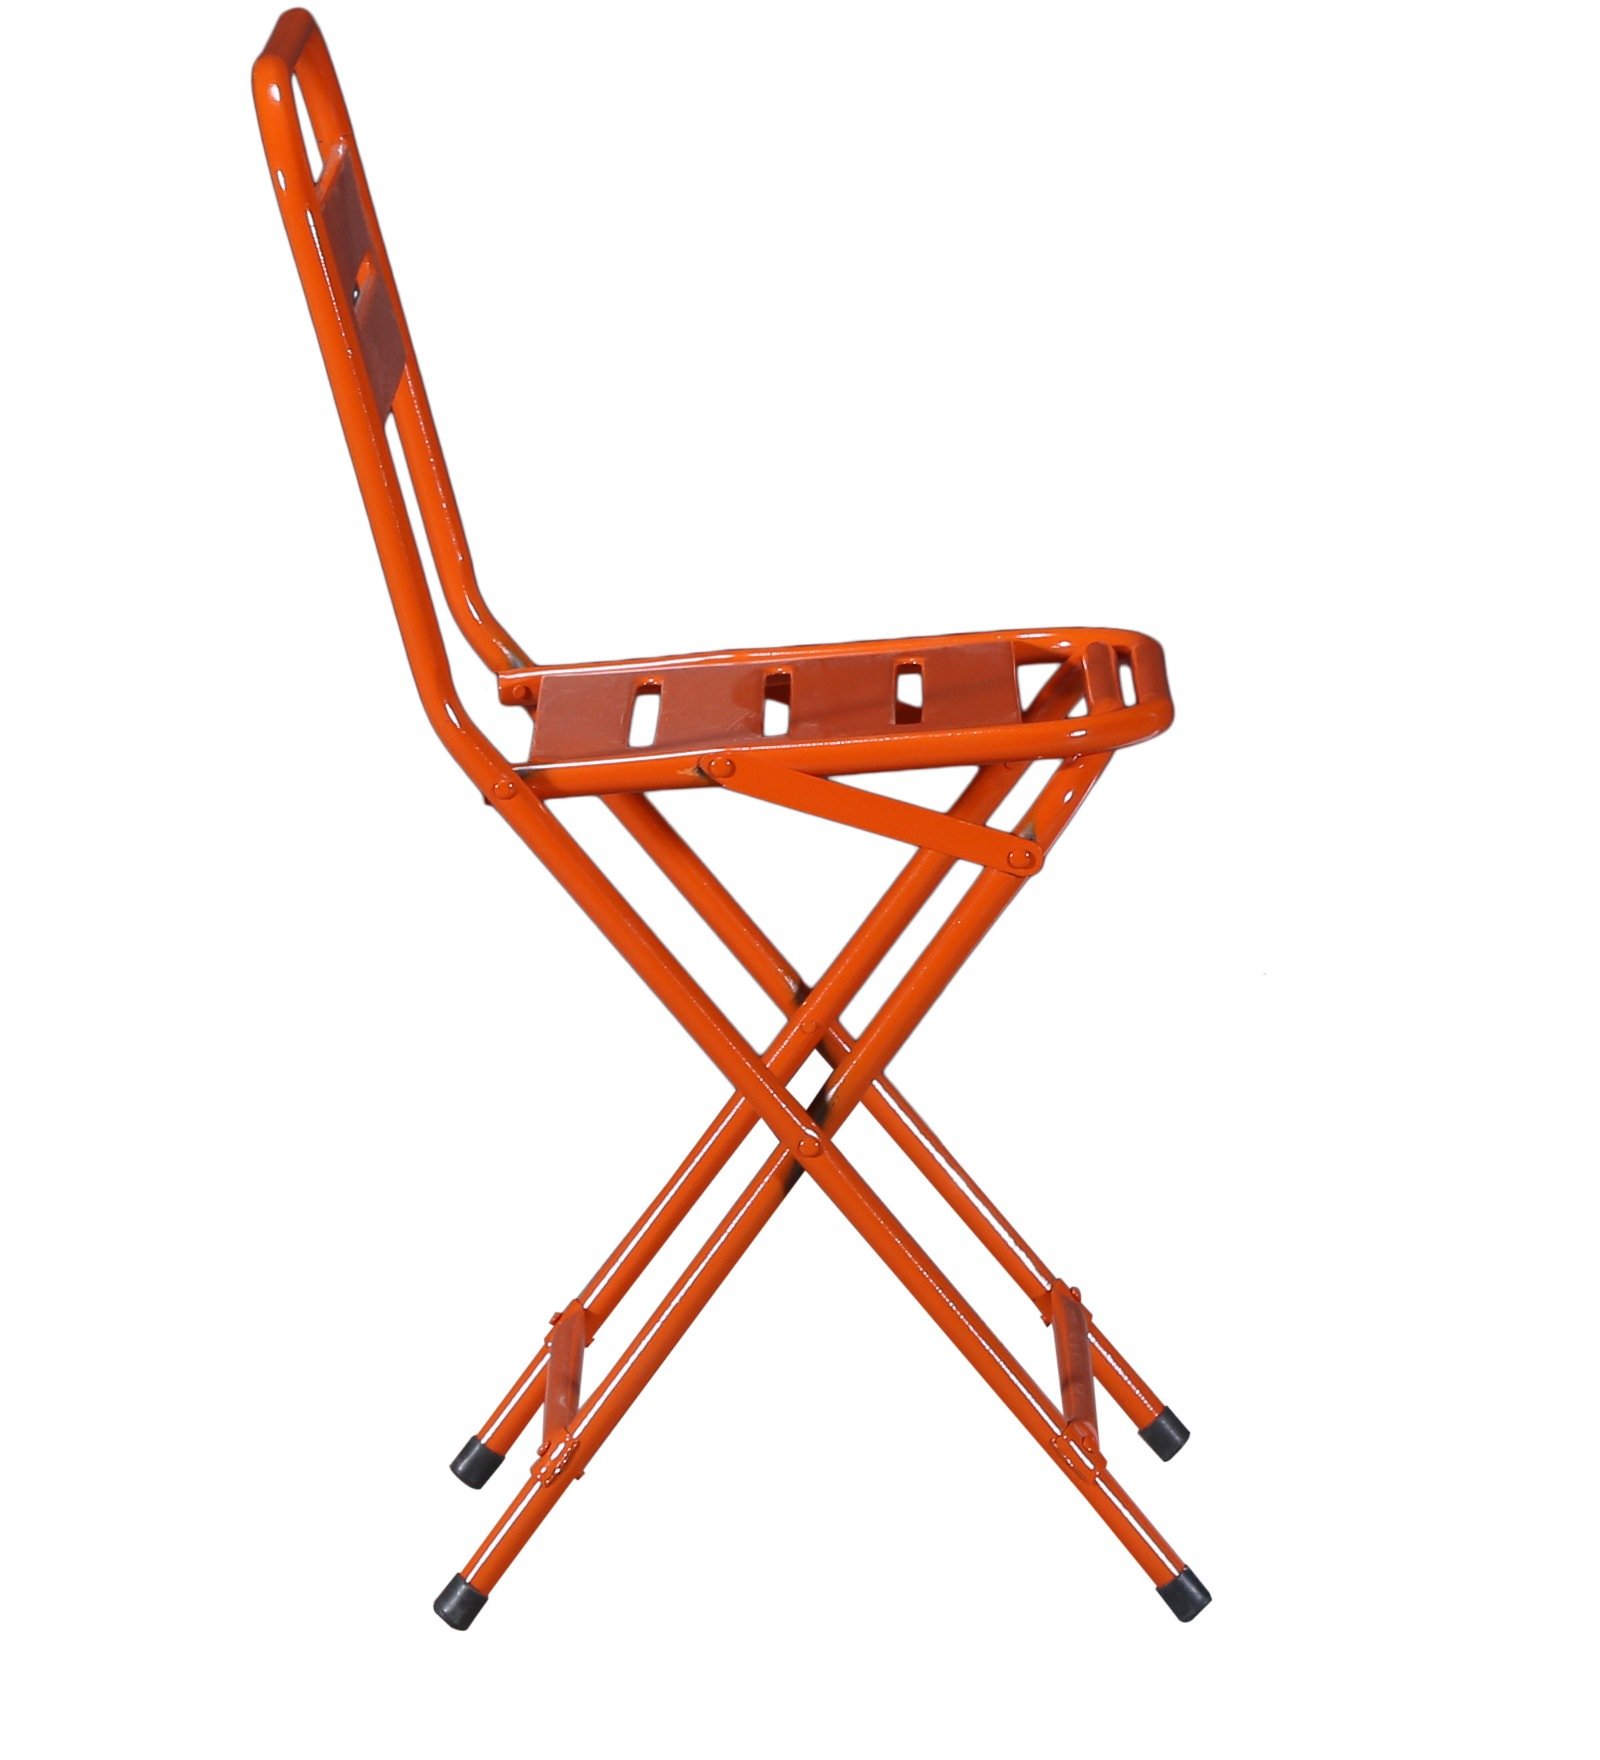Marandoo Grunge Orange Outdoor Folding Chair by Bohemiana: (242, 2, 1238, 1627)
